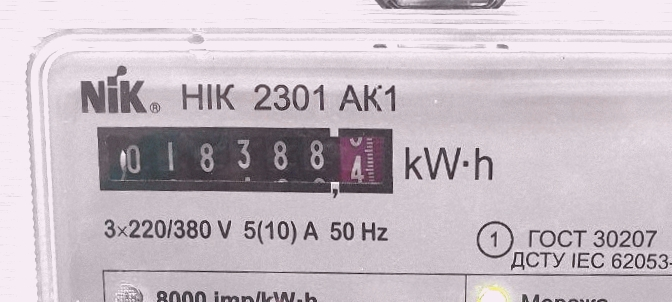0: (122, 140, 143, 176)
1: (160, 136, 179, 173)
3: (233, 136, 254, 171)
4: (346, 151, 367, 184)
8: (195, 138, 217, 174), (305, 136, 327, 172), (269, 138, 290, 173)
screen: (86, 111, 407, 209)
